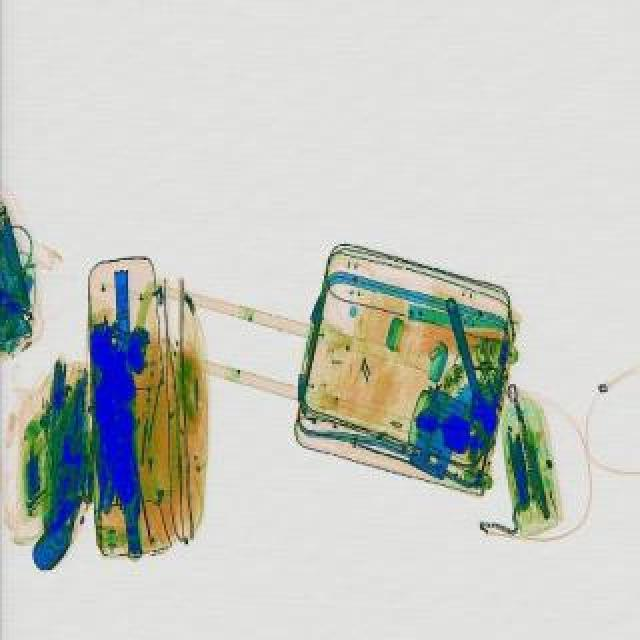scissors: (434, 294, 502, 438)
